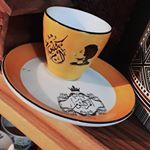cups: (39, 4, 114, 84)
